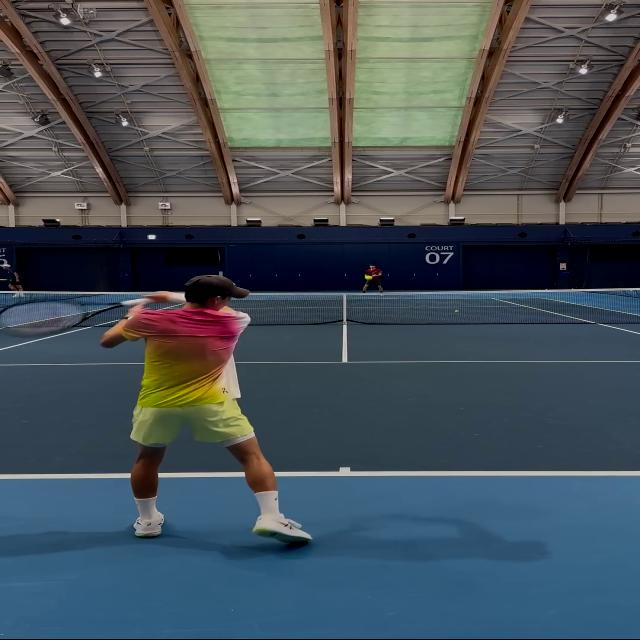tennis_ball: (366, 277, 372, 279)
